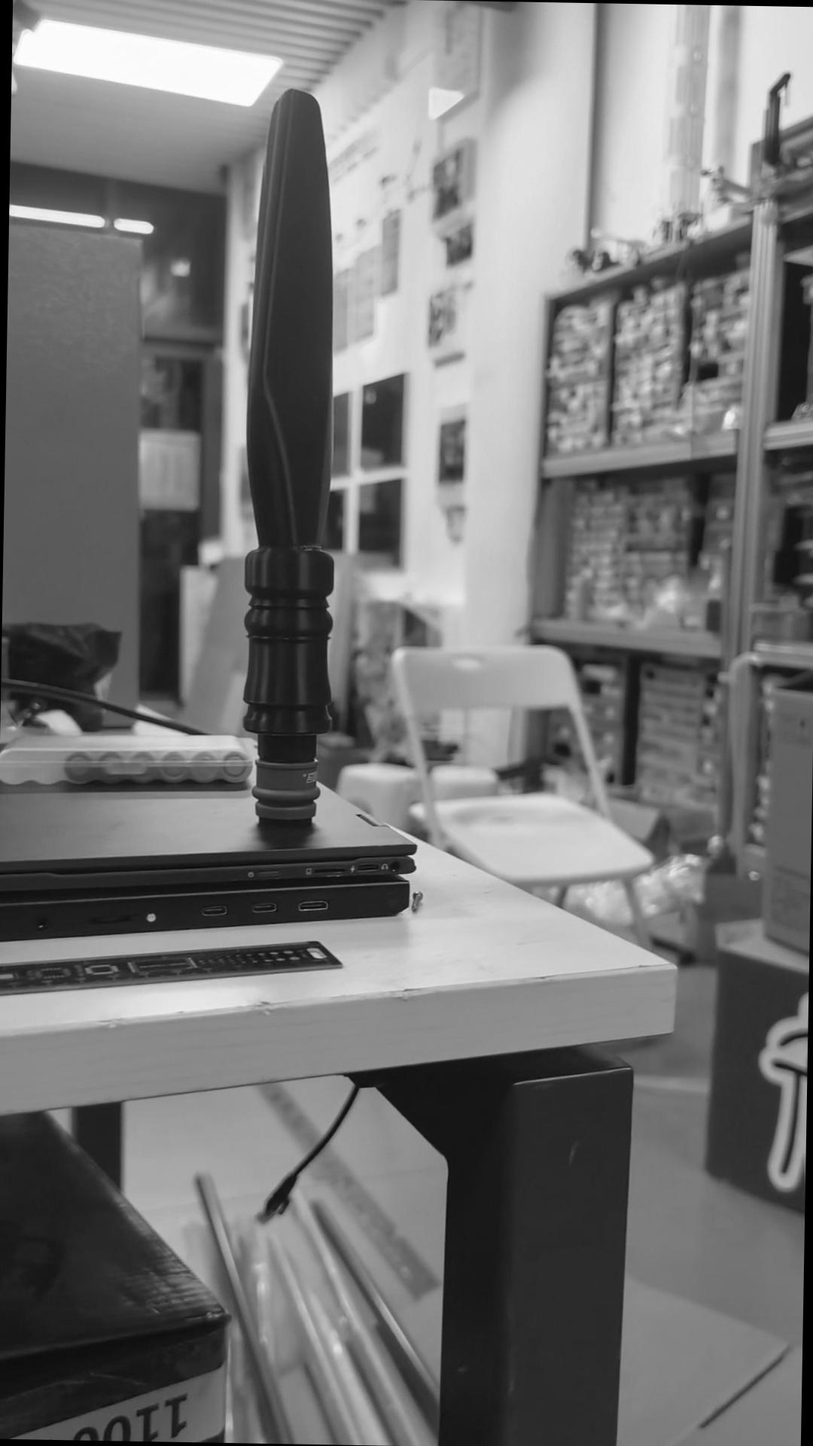base: (241, 756, 322, 842)
